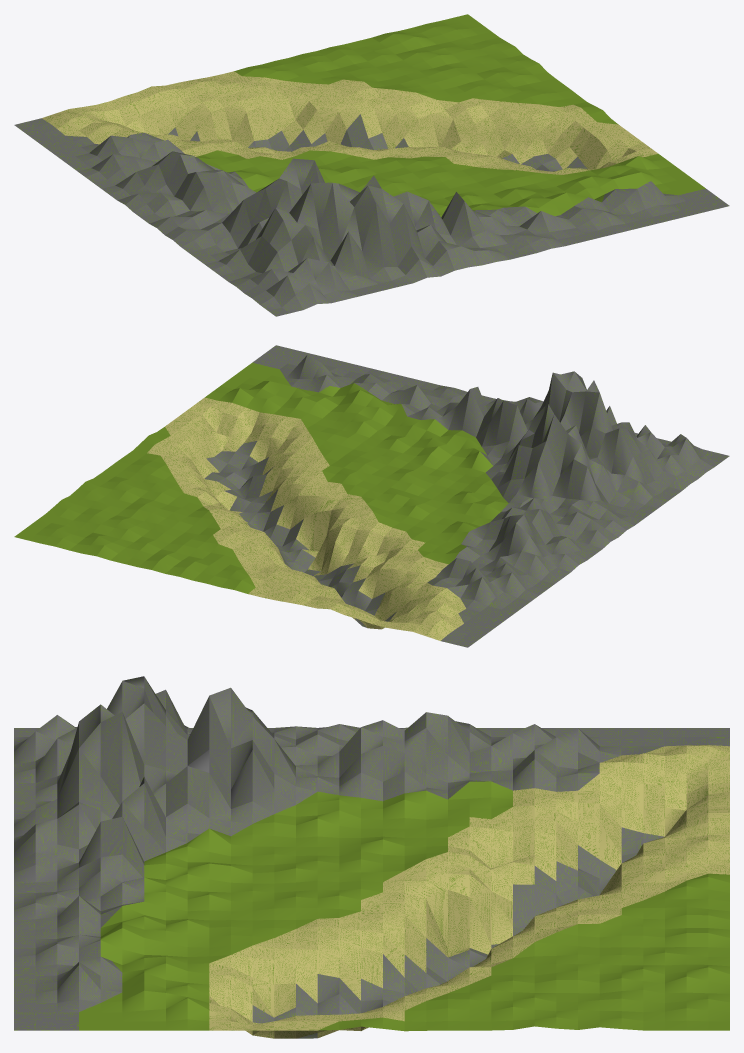
Rendered from ground.dae.
3 views of the same model, one above another, from view 1: azimuth 30°, elevation 25°; view 2: azimuth 150°, elevation 25°; view 3: azimuth 270°, elevation 25° (orthographic). The views are drawn at different scales.
Parts seen in each view (by area): view 1: group_0 (×5); view 2: group_0 (×5); view 3: group_0 (×5).
Part boxes in pixels (x1,y1,x2,y2): group_0 (×5): (14,14,729,316); group_0 (×5): (14,345,729,647); group_0 (×5): (14,676,729,1038).
Bounding box in the file's own units: 974 × 974 × 267.
